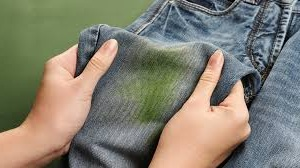earth: (137, 52, 175, 115)
